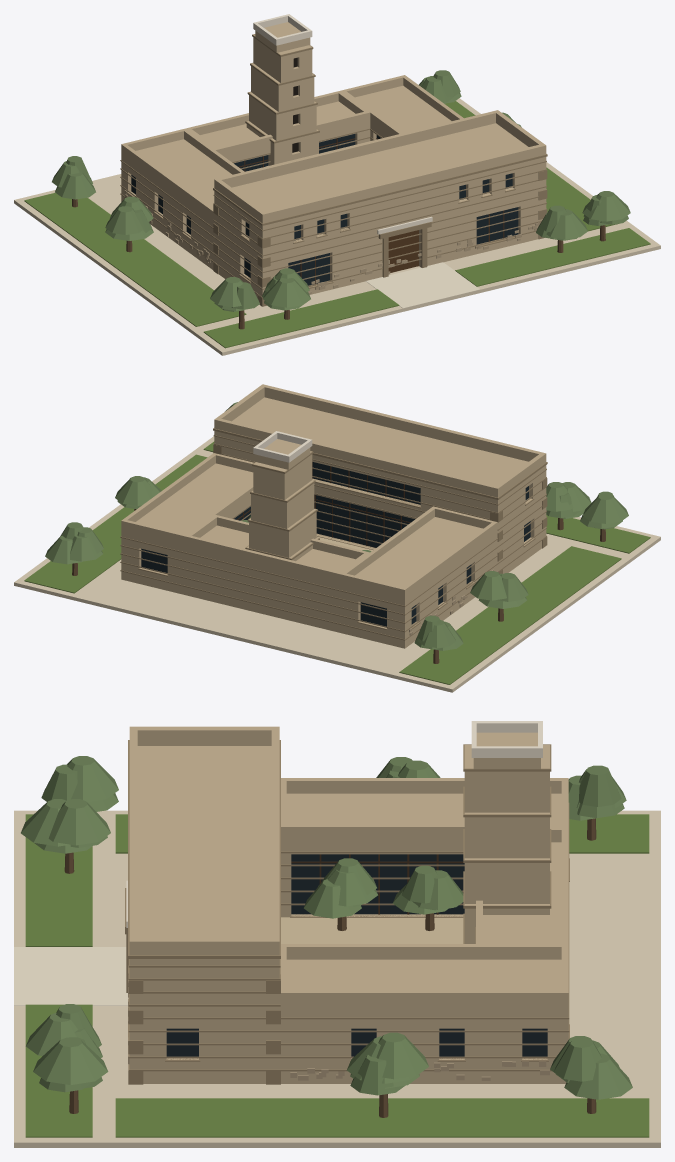
File: jouf.glb
The picture shows the model from 3 angles, top to bottom: view 1: azimuth 30°, elevation 25°; view 2: azimuth 150°, elevation 25°; view 3: azimuth 270°, elevation 25°; orthographic projection. The views are drawn at different scales.
Visible parts, largest first — view 1: Jouf_stone, Jouf_lawn, Jouf_pave, Jouf_stone_dark, Jouf_leaf, Jouf_glass, Jouf_coping, Jouf_plaster, Jouf_door, Jouf_rubble; view 2: Jouf_stone, Jouf_pave, Jouf_lawn, Jouf_stone_dark, Jouf_leaf, Jouf_glass, Jouf_plaster, Jouf_frame; view 3: Jouf_stone, Jouf_pave, Jouf_lawn, Jouf_leaf, Jouf_stone_dark, Jouf_glass, Jouf_coping, Jouf_court, Jouf_plaster, Jouf_trunk, Jouf_rubble, Jouf_frame.
Part boxes in pixels (bbox=[...]): Jouf_stone: bbox=[121, 22, 546, 297]; Jouf_lawn: bbox=[24, 101, 650, 348]; Jouf_pave: bbox=[14, 98, 660, 355]; Jouf_stone_dark: bbox=[120, 34, 547, 306]; Jouf_leaf: bbox=[52, 70, 630, 311]; Jouf_glass: bbox=[131, 134, 518, 285]; Jouf_coping: bbox=[366, 262, 479, 308]; Jouf_plaster: bbox=[253, 14, 432, 234]; Jouf_door: bbox=[388, 230, 418, 272]; Jouf_rubble: bbox=[124, 190, 540, 294]; Jouf_stone: bbox=[121, 384, 546, 648]; Jouf_pave: bbox=[14, 436, 660, 692]; Jouf_lawn: bbox=[24, 441, 650, 684]; Jouf_stone_dark: bbox=[120, 428, 547, 640]; Jouf_leaf: bbox=[45, 402, 628, 650]; Jouf_glass: bbox=[141, 462, 530, 626]; Jouf_plaster: bbox=[253, 431, 312, 462]; Jouf_frame: bbox=[237, 462, 410, 545]; Jouf_stone: bbox=[129, 726, 568, 1083]; Jouf_pave: bbox=[14, 810, 660, 1147]; Jouf_lawn: bbox=[25, 814, 649, 1137]; Jouf_leaf: bbox=[21, 756, 632, 1099]; Jouf_stone_dark: bbox=[125, 740, 569, 1084]; Jouf_glass: bbox=[166, 854, 547, 1056]; Jouf_coping: bbox=[14, 947, 128, 1005]; Jouf_court: bbox=[281, 917, 463, 943]; Jouf_plaster: bbox=[126, 721, 542, 927]; Jouf_trunk: bbox=[64, 818, 596, 1117]; Jouf_rubble: bbox=[128, 980, 549, 1080]; Jouf_frame: bbox=[291, 854, 464, 914].
Bounding box in the file's own units: 34 × 11.8 × 28.
